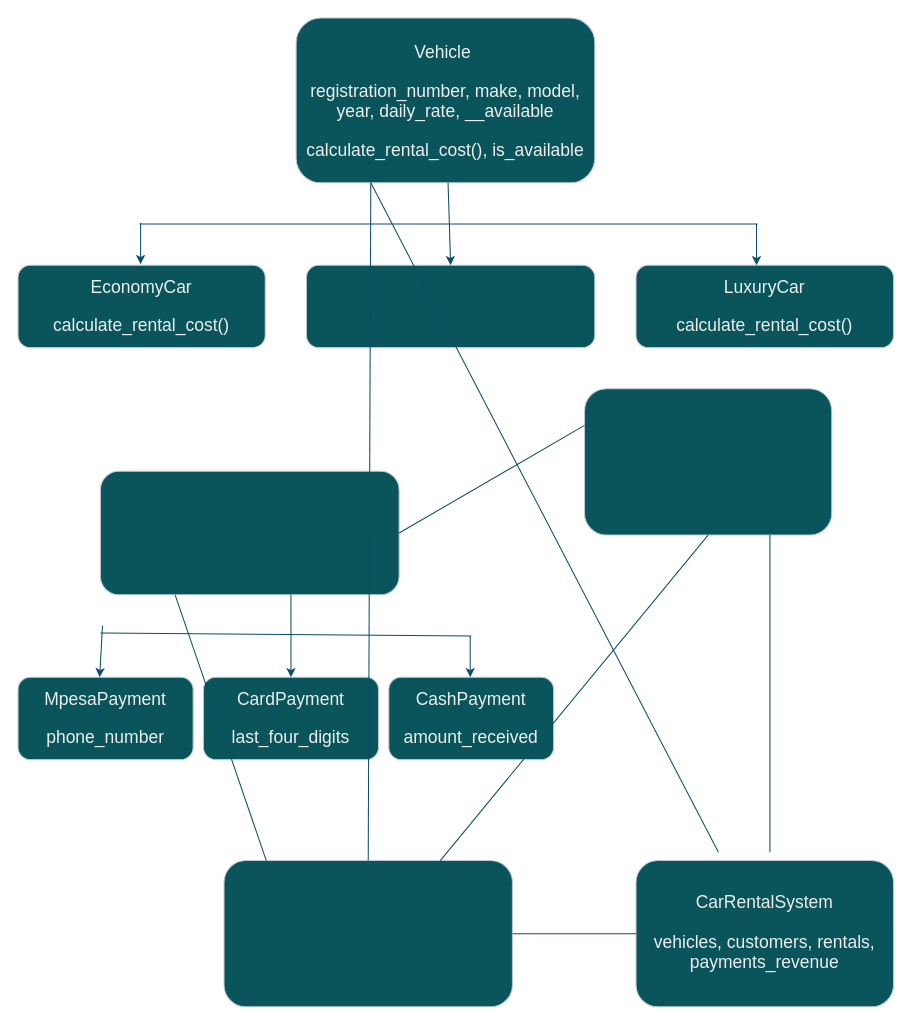
Image size: 912x1029. Some labels were removed from this diagram. Each missing label, with the centre of its shape:
"Customer customer_id, name, phone_number rentals" goes at point (707, 461).
"Payment rental, amount process_payment()" goes at point (249, 532).
"Rental rental_id, rental_days, status base_cost, late_fee, damage_charge, __paid" goes at point (367, 933).
"SUV calculate_rental_cost()" goes at point (450, 306).
